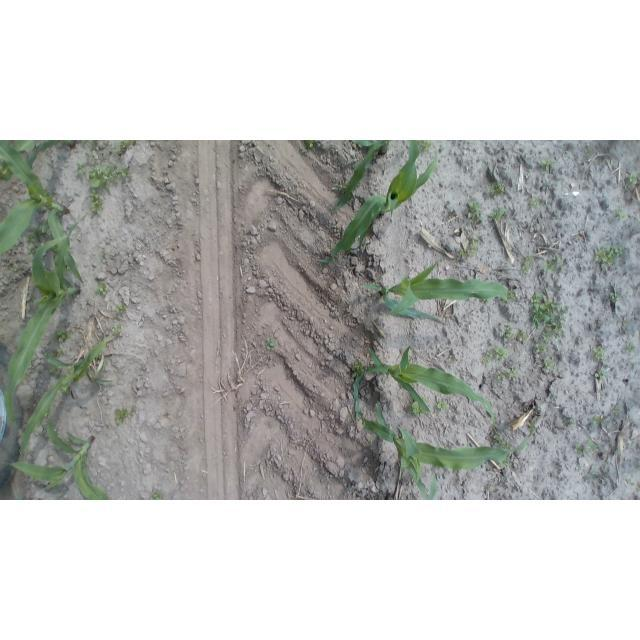Maize: (352, 404, 538, 499), (8, 212, 88, 420), (316, 143, 440, 268), (355, 342, 496, 426), (0, 140, 80, 287), (18, 335, 116, 450), (2, 409, 112, 500), (362, 263, 514, 326), (330, 141, 397, 214), (0, 140, 70, 177)
Weeds: (531, 294, 569, 339), (87, 165, 129, 191), (593, 243, 627, 270), (481, 347, 509, 366), (543, 254, 566, 275), (113, 405, 137, 425), (575, 439, 599, 457), (467, 200, 484, 225), (458, 236, 478, 257), (90, 190, 105, 215), (490, 434, 511, 451), (487, 181, 506, 199), (495, 367, 521, 380), (520, 253, 534, 275), (488, 207, 507, 223), (116, 140, 141, 152), (54, 328, 71, 344), (351, 358, 366, 376), (32, 224, 51, 238), (26, 228, 46, 241), (541, 356, 556, 373), (624, 171, 638, 188), (614, 207, 629, 222), (264, 336, 278, 352), (541, 157, 555, 172), (331, 181, 346, 195), (411, 401, 426, 415), (301, 140, 316, 154), (502, 288, 517, 302), (591, 345, 605, 360), (26, 242, 42, 255), (76, 162, 89, 177), (110, 323, 123, 338), (416, 140, 432, 152), (528, 194, 540, 210), (502, 324, 514, 340), (595, 364, 607, 380), (622, 342, 636, 355), (96, 283, 109, 296), (48, 364, 61, 377), (609, 290, 621, 304), (501, 457, 511, 473), (436, 400, 449, 412), (102, 146, 115, 158), (534, 341, 546, 354), (591, 415, 605, 426), (117, 301, 128, 315), (52, 347, 67, 357), (25, 232, 40, 242), (150, 489, 165, 499), (517, 330, 527, 343), (611, 405, 621, 416), (447, 355, 457, 366), (266, 420, 277, 429), (488, 483, 499, 492), (61, 387, 72, 395), (585, 149, 594, 158), (566, 418, 575, 427), (83, 153, 91, 162), (12, 265, 20, 273), (368, 437, 375, 445), (99, 253, 106, 261), (93, 145, 99, 152), (30, 296, 36, 301), (472, 418, 477, 424), (0, 333, 4, 340), (625, 320, 630, 325), (88, 141, 94, 144), (81, 140, 87, 142)
